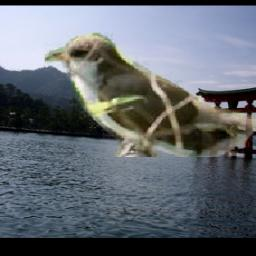Cuckoo: (46, 34, 256, 158)
